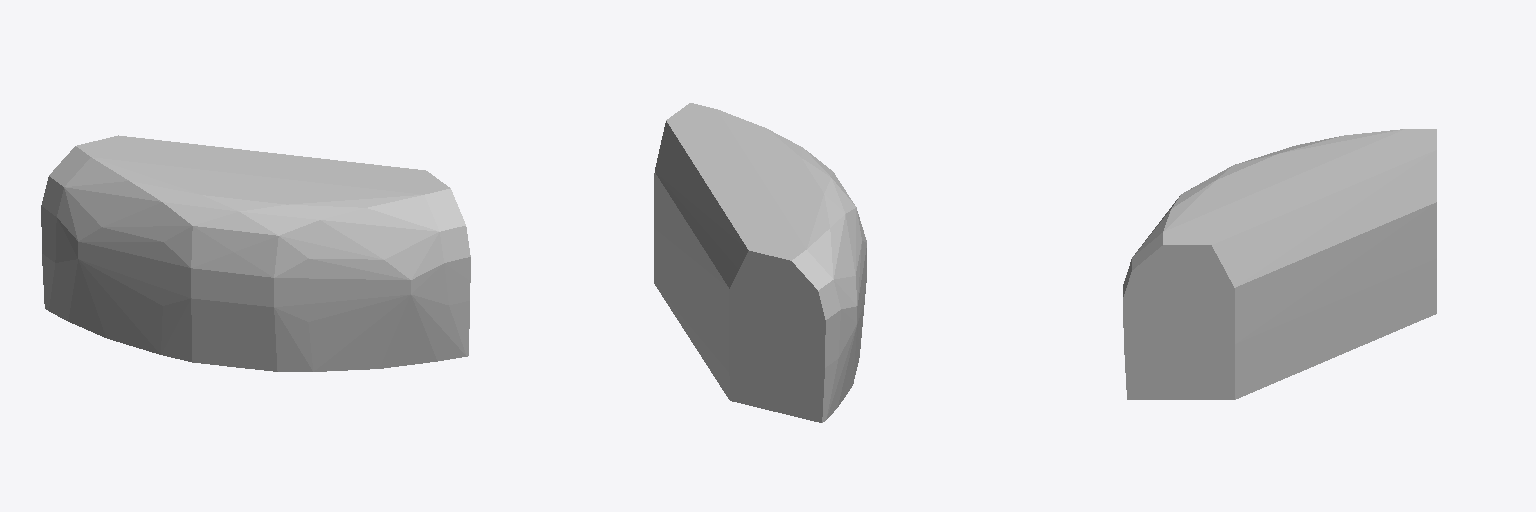
Rendered from Wine_Bottle_1_collision_4.obj.
3 views of the same model, side by side, from view 1: azimuth 30°, elevation 25°; view 2: azimuth 150°, elevation 25°; view 3: azimuth 270°, elevation 25° (orthographic).
Bounding box in the file's own units: 0.0165 × 0.009 × 0.0165.